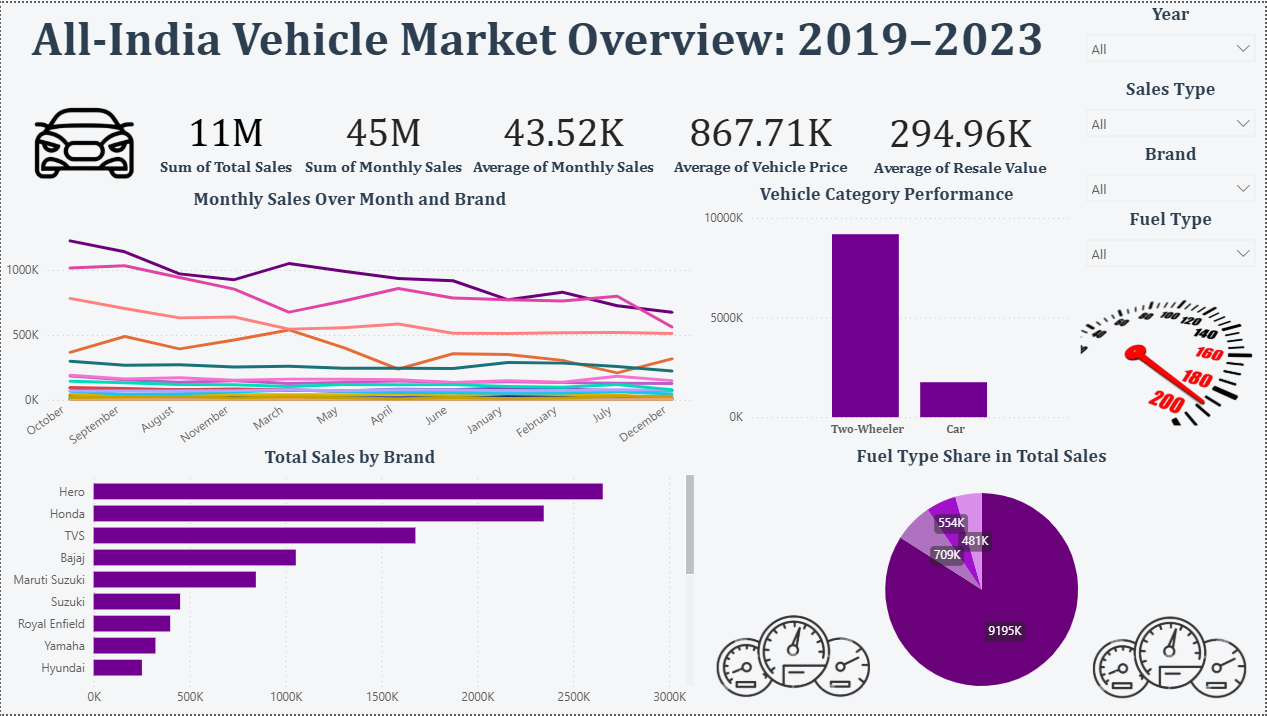

Layout of this report page (visuals, bound fields, positions):
{"tool":"powerbi","page":{"name":"Page 1","canvas":[1280,720],"ordinal":0},"visuals":[{"type":"lineChart","title":"Monthly Sales Over Month and Brand","fields":{"Category":["Vehicle_Sales_&_Trends_Data(overall india).Month"],"Series":["Vehicle_Sales_&_Trends_Data(overall india).Brand"],"Y":["Sum(Vehicle_Sales_&_Trends_Data(overall india).Monthly Sales)"]},"box":[0,187.1,706.8,282.5],"z":0},{"type":"clusteredBarChart","title":"Total Sales by Brand","fields":{"Category":["Vehicle_Sales_&_Trends_Data(overall india).Brand"],"Y":["Sum(Vehicle_Sales_&_Trends_Data(overall india).Total Sales)"]},"box":[0,447.6,706.8,272.7],"z":1000},{"type":"card","fields":{"Values":["Sum(Vehicle_Sales_&_Trends_Data(overall india).Total Sales)"]},"box":[154.1,91.7,146.7,94.2],"z":2000},{"type":"card","fields":{"Values":["Sum(Vehicle_Sales_&_Trends_Data(overall india).Monthly Sales)"]},"box":[300.8,91.7,172.4,94.2],"z":3000},{"type":"card","fields":{"Values":["Avg(Vehicle_Sales_&_Trends_Data(overall india).Monthly Sales)"]},"box":[473.2,91.7,192,94.2],"z":4000},{"type":"card","title":"AVG Vehicle Price","fields":{"Values":["Avg(Vehicle_Sales_&_Trends_Data(overall india).Vehicle Price(EX-showroom,RTO,Insurance))"]},"box":[665.2,91.7,206.7,94.2],"z":5000},{"type":"card","title":"AVG. Resale Value","fields":{"Values":["Avg(Vehicle_Sales_&_Trends_Data(overall india).Resale Value)"]},"box":[871.9,96.6,198.1,85.6],"z":6000},{"type":"slicer","title":"Fuel Type","fields":{"Values":["Vehicle_Info_Data.Fuel Type"]},"box":[1088.3,207.9,192,66],"z":7000},{"type":"slicer","title":"Brand","fields":{"Values":["Vehicle_Info_Data.Brand"]},"box":[1088.3,141.8,192,66],"z":8000},{"type":"slicer","title":"Year","fields":{"Values":["Vehicle_Sales_&_Trends_Data(overall india).Year"]},"box":[1088.3,0,192,75.8],"z":9000},{"type":"slicer","title":"Sales Type","fields":{"Values":["Vehicle_Sales_&_Trends_Data(overall india).Sales Type(New/Resold)"]},"box":[1088.3,75.8,192,66],"z":10000},{"type":"textbox","box":[0,2.4,1088.3,75.8],"z":11000},{"type":"image","box":[0,69.7,168.8,144.3],"z":12000},{"type":"pieChart","title":"Fuel Type Share in Total Sales","fields":{"Y":["Sum(Vehicle_Sales_&_Trends_Data(overall india).Total Sales)"],"Category":["Vehicle_Sales_&_Trends_Data(overall india).Fuel Type"]},"box":[706.8,447.6,573.5,272.7],"z":13000},{"type":"columnChart","title":"Vehicle Category Performance","fields":{"Category":["Vehicle_Sales_&_Trends_Data(overall india).Vehicle Category"],"Y":["Sum(Vehicle_Sales_&_Trends_Data(overall india).Total Sales)"]},"box":[706.8,182.2,381.5,265.4],"z":14000},{"type":"image","box":[1089,274,191,173],"z":15000},{"type":"pieChart","title":"Fuel Type Share in Total Sales","fields":{"Y":["Sum(Vehicle_Sales_&_Trends_Data(overall india).Total Sales)"],"Category":["Vehicle_Sales_&_Trends_Data(overall india).Fuel Type"]},"box":[706.5,447.3,573.5,272.7],"z":16000},{"type":"image","box":[1087.3,616.5,192.4,103.8],"z":17000},{"type":"image","box":[706.3,615.2,192.4,103.8],"z":18000}]}

Visuals, with their boxes in screenshot pixels (x1, y1, x2, y2), scaled from the page's 1280x720 canvas onto the 1267x716 screenshot:
"Monthly Sales Over Month and Brand" lineChart: box=[0, 186, 700, 467]
"Total Sales by Brand" clusteredBarChart: box=[0, 445, 700, 715]
card - Sum(Vehicle_Sales_&_Trends_Data(overall india).Total Sales): box=[153, 91, 298, 185]
card - Sum(Vehicle_Sales_&_Trends_Data(overall india).Monthly Sales): box=[298, 91, 468, 185]
card - Avg(Vehicle_Sales_&_Trends_Data(overall india).Monthly Sales): box=[468, 91, 658, 185]
"AVG Vehicle Price" card: box=[658, 91, 863, 185]
"AVG. Resale Value" card: box=[863, 96, 1059, 181]
"Fuel Type" slicer: box=[1077, 207, 1266, 272]
"Brand" slicer: box=[1077, 141, 1266, 207]
"Year" slicer: box=[1077, 0, 1266, 75]
"Sales Type" slicer: box=[1077, 75, 1266, 141]
textbox: box=[0, 2, 1077, 78]
image: box=[0, 69, 167, 213]
"Fuel Type Share in Total Sales" pieChart: box=[700, 445, 1266, 715]
"Vehicle Category Performance" columnChart: box=[700, 181, 1077, 445]
image: box=[1078, 272, 1266, 445]
"Fuel Type Share in Total Sales" pieChart: box=[699, 445, 1266, 715]
image: box=[1076, 613, 1266, 715]
image: box=[699, 612, 890, 715]
